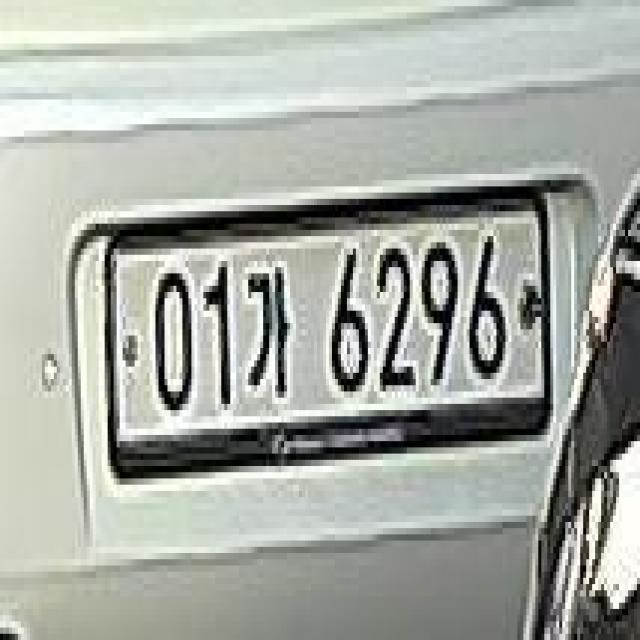illegal_plate: (98, 182, 558, 481)
